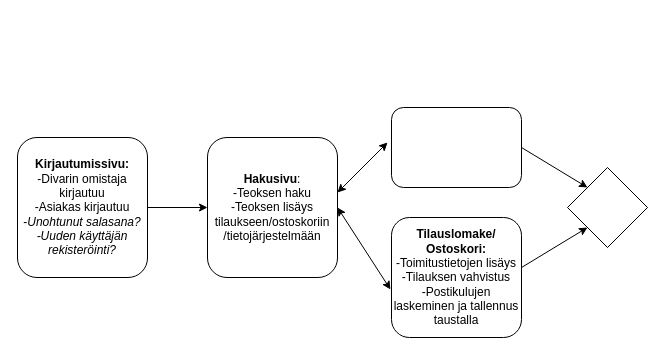
The diagram is 665 pixels wide and 355 high, and some of its shapes have lost their labels. The centre of each missing label's shape, as x and y in pixels:
"Teoksen lisäyslomake: tietokantaan D1 & D2" goes at (456,147).
"Ulos- kirjaus" goes at (607,207).
